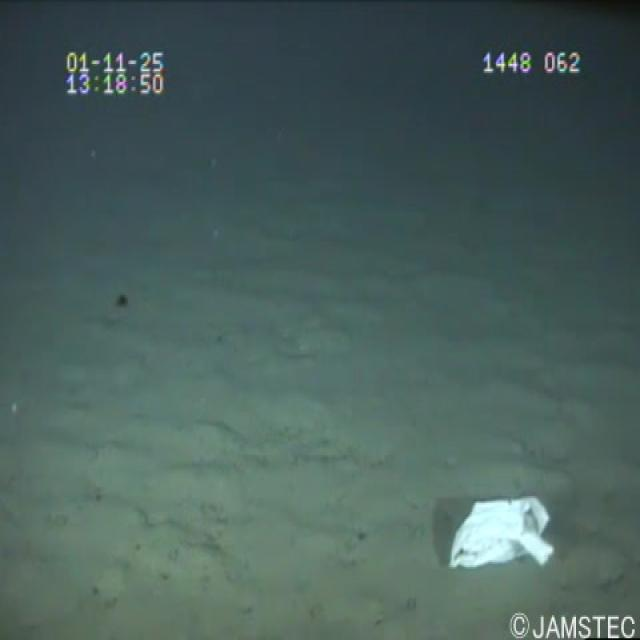plastic: (434, 478, 566, 587)
